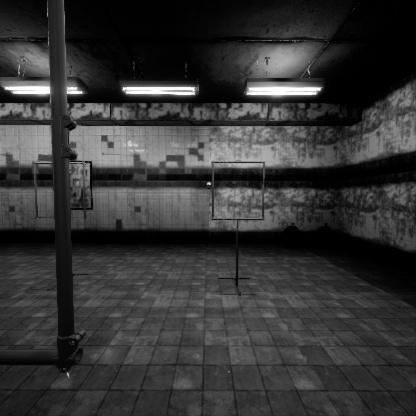gate: (211, 195, 269, 255), (34, 196, 90, 254)
